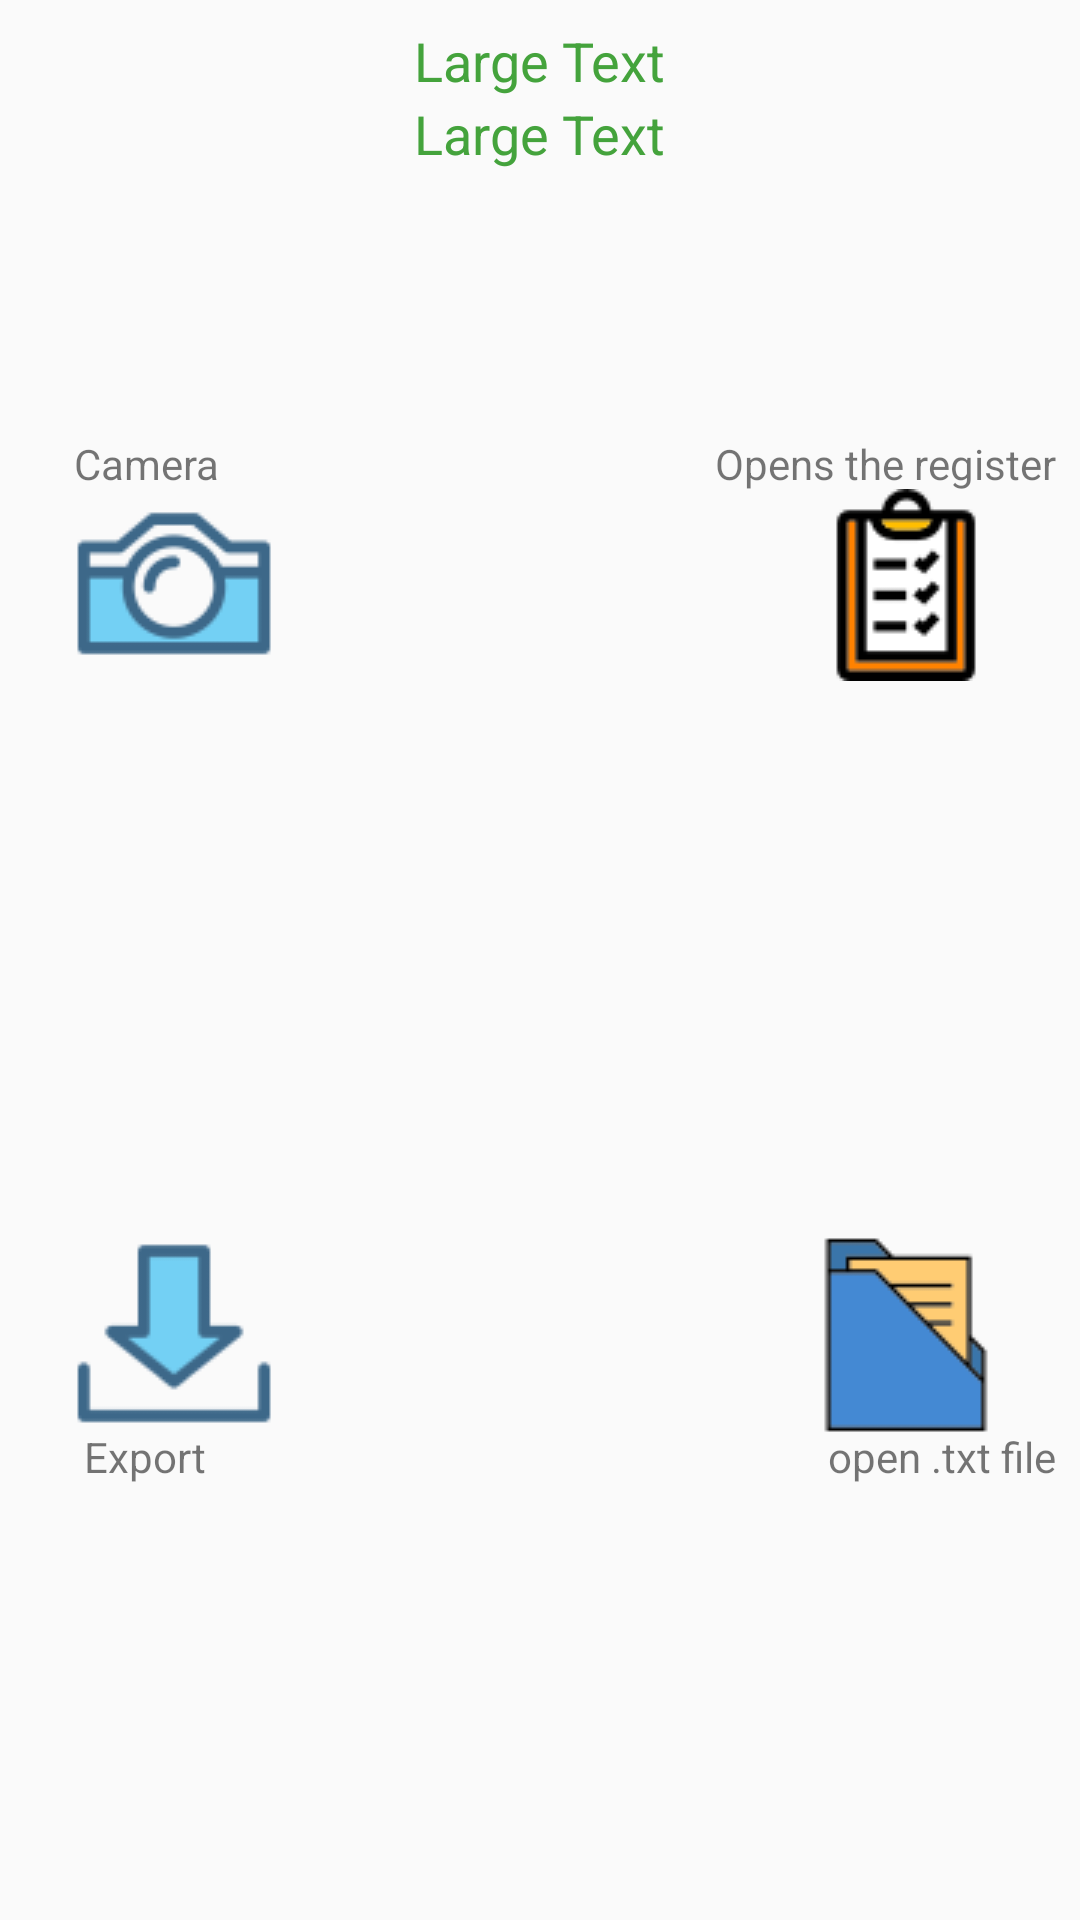

Named icons in this screenshot (1080 x 1920) and their centers, point (x, y):
fold: point (939, 1360)
